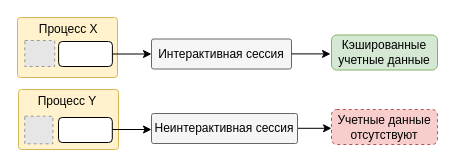
Some shapes in this 455 by 167 pixel diagram are drawn without their labels. Grey dashed boxes stand in for pictures. Here are the shapes that lost their labels. From the top down, the centre of each, then its label:
(85,53): Токен X
(85,129): Токен Y
